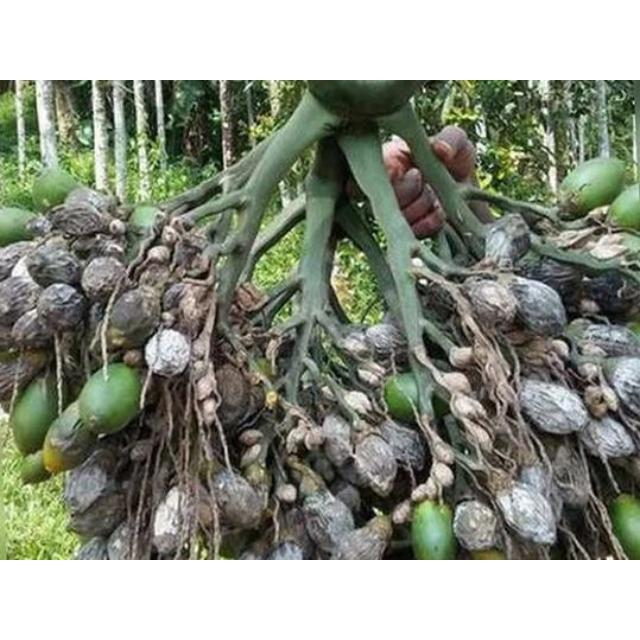damaged: (62, 452, 128, 536), (496, 465, 558, 545), (208, 469, 266, 533), (520, 380, 588, 434), (300, 490, 356, 554), (345, 432, 399, 494), (106, 288, 160, 349), (331, 513, 394, 561), (150, 486, 193, 556), (518, 254, 578, 302), (578, 413, 636, 462), (580, 270, 638, 318), (548, 439, 588, 507), (34, 283, 86, 335), (461, 278, 515, 328), (26, 239, 80, 289), (380, 422, 428, 478), (452, 500, 500, 554), (0, 274, 42, 334), (574, 322, 640, 360), (484, 214, 530, 266), (604, 356, 640, 419), (80, 256, 126, 302), (174, 278, 212, 330), (319, 413, 355, 467), (10, 308, 56, 350), (422, 276, 461, 322), (362, 323, 406, 363), (62, 187, 112, 221), (133, 260, 173, 302), (170, 234, 208, 276), (81, 235, 127, 269), (339, 328, 376, 366), (1, 242, 36, 282), (271, 332, 299, 374), (450, 394, 486, 424), (332, 482, 362, 514), (243, 459, 271, 491), (342, 390, 373, 418), (129, 437, 157, 467), (162, 282, 190, 312), (197, 456, 225, 484), (464, 421, 492, 449), (566, 318, 596, 344), (57, 366, 75, 409), (286, 422, 310, 453), (21, 348, 49, 374), (69, 234, 101, 256), (440, 372, 472, 394), (430, 439, 456, 465), (312, 456, 336, 484), (490, 418, 514, 446), (431, 462, 455, 488), (238, 444, 264, 468), (448, 347, 476, 369), (195, 374, 217, 402), (390, 500, 412, 526), (146, 245, 172, 265), (576, 362, 600, 382), (238, 429, 264, 447), (548, 338, 570, 359), (275, 484, 297, 504), (161, 224, 181, 246), (200, 396, 218, 420), (192, 334, 208, 360), (108, 218, 126, 238)
